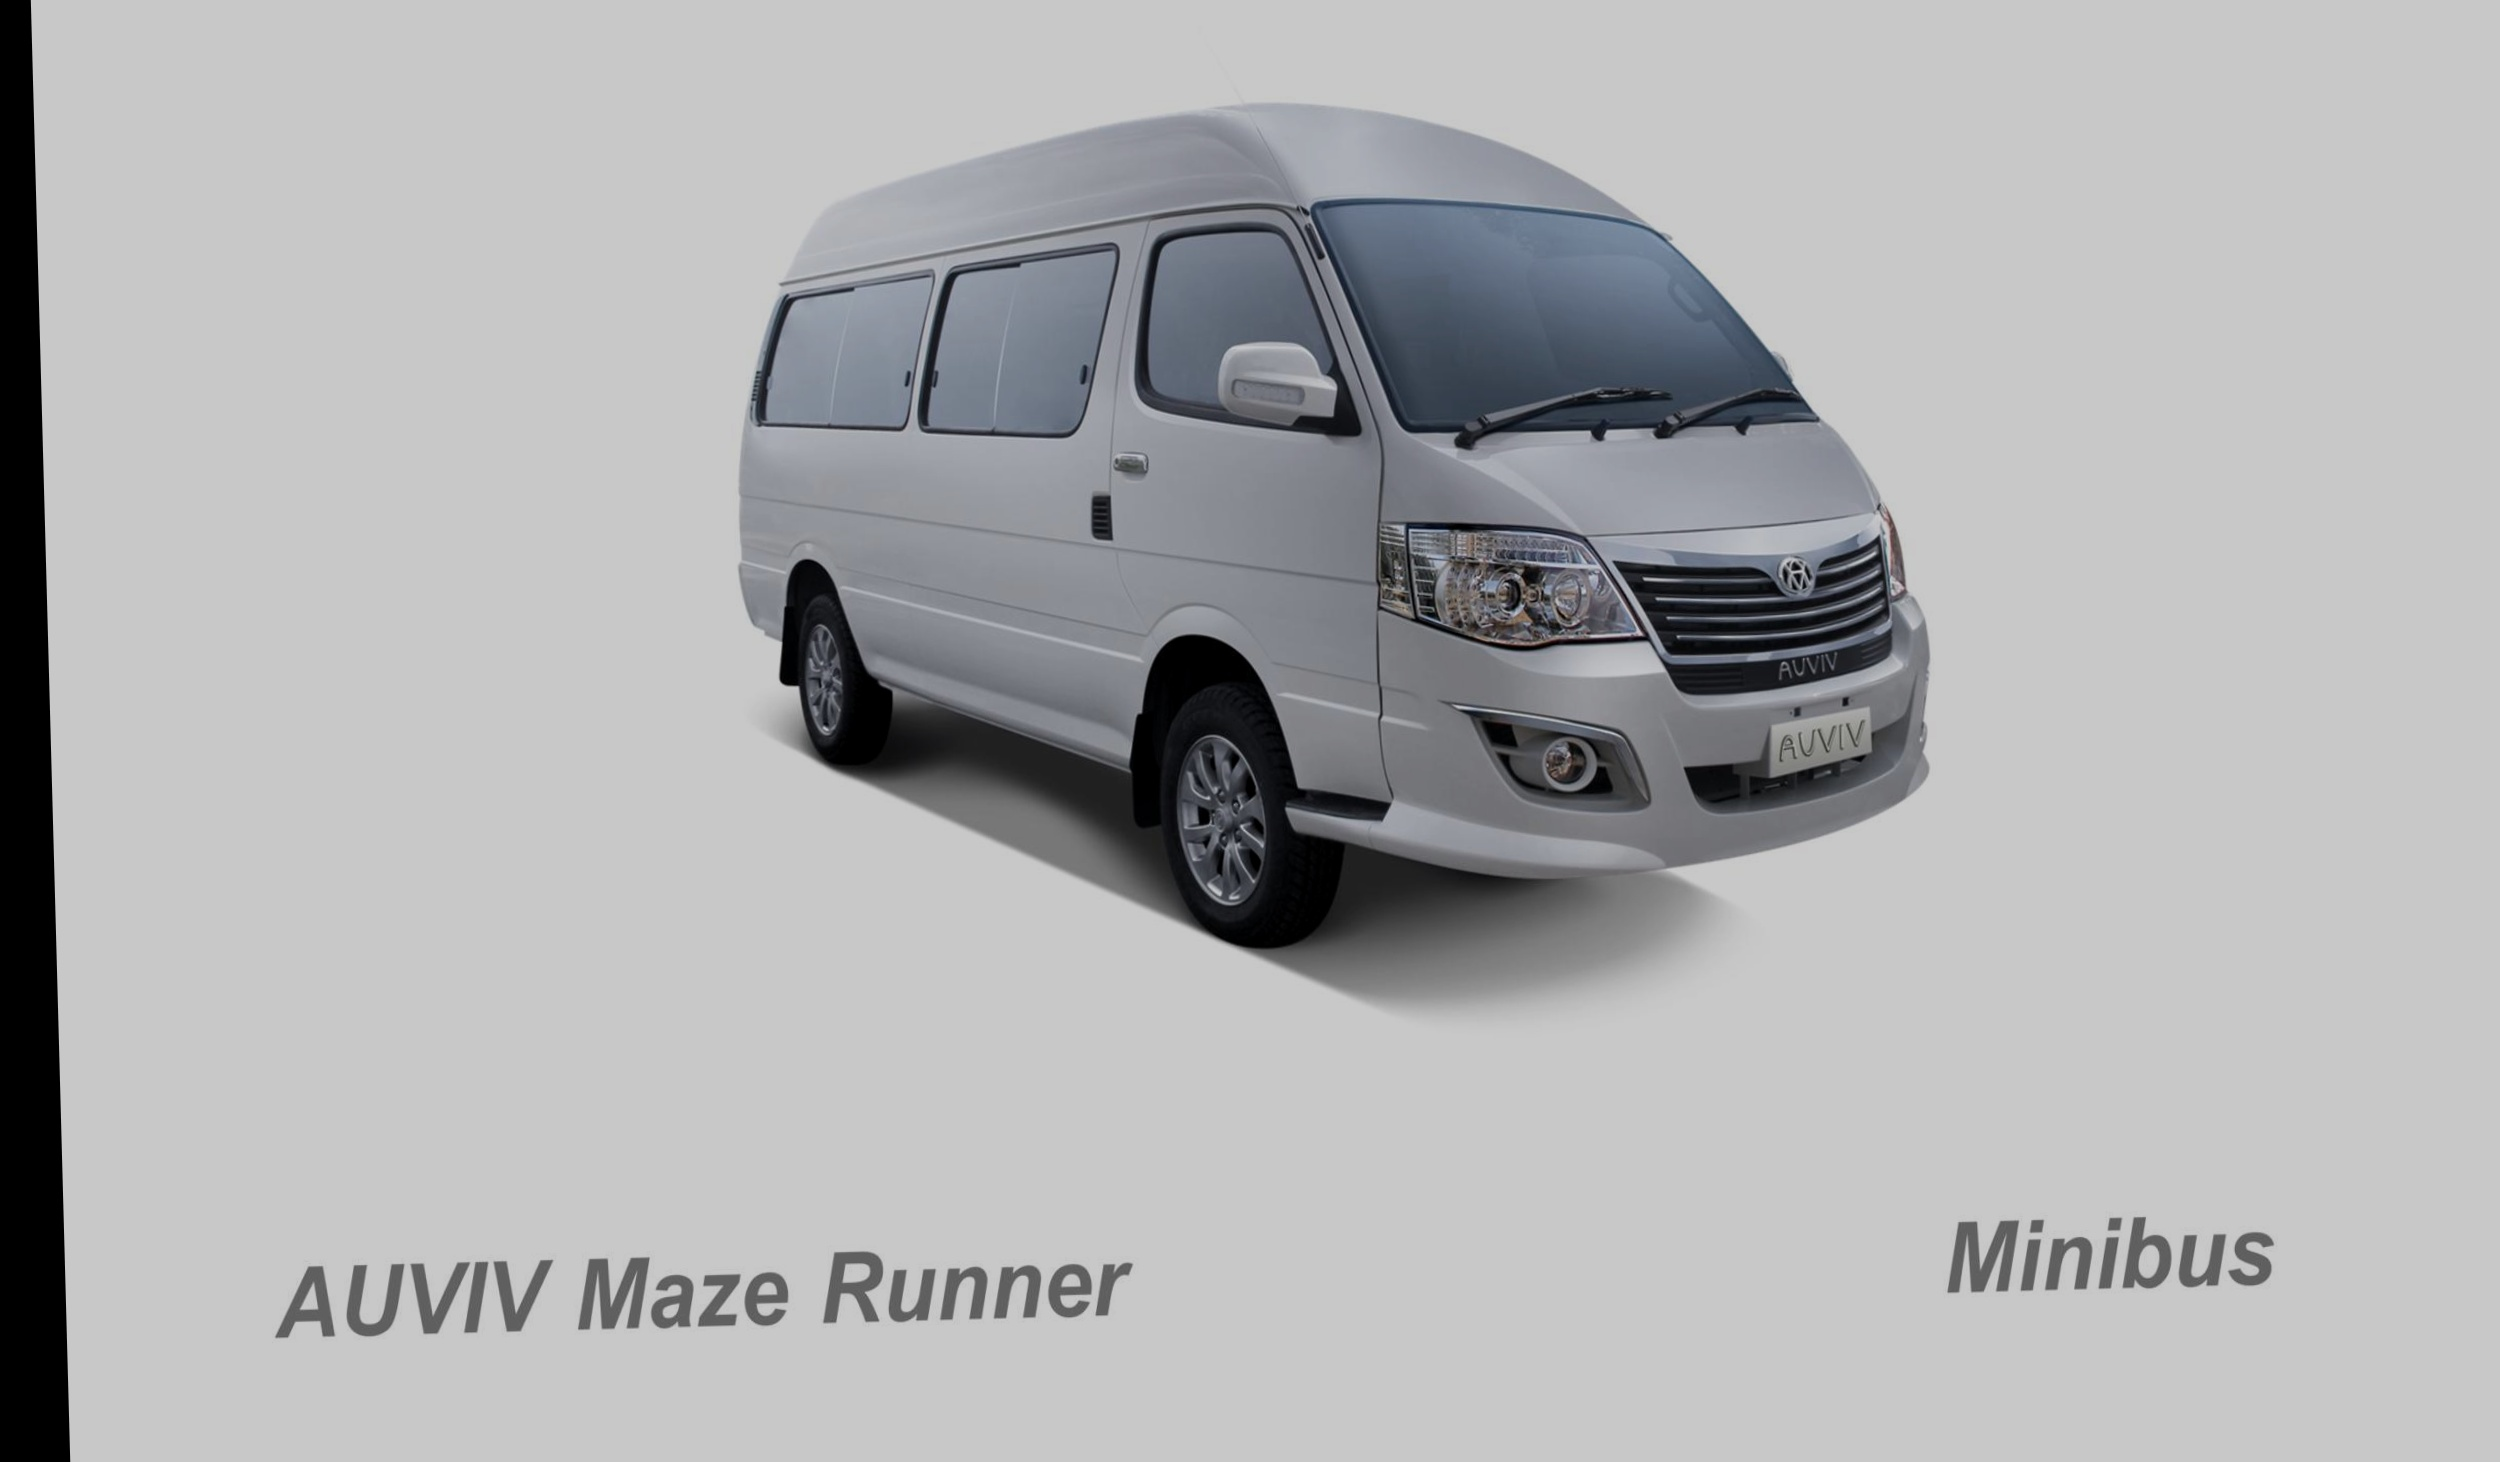van: (699, 0, 1978, 1003)
